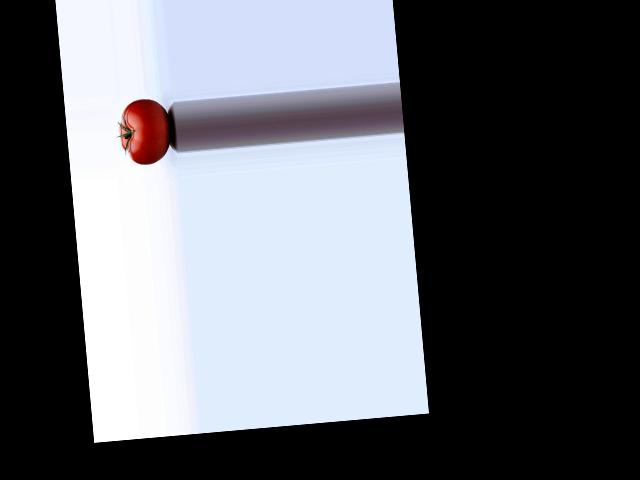tomato: (117, 97, 173, 166)
